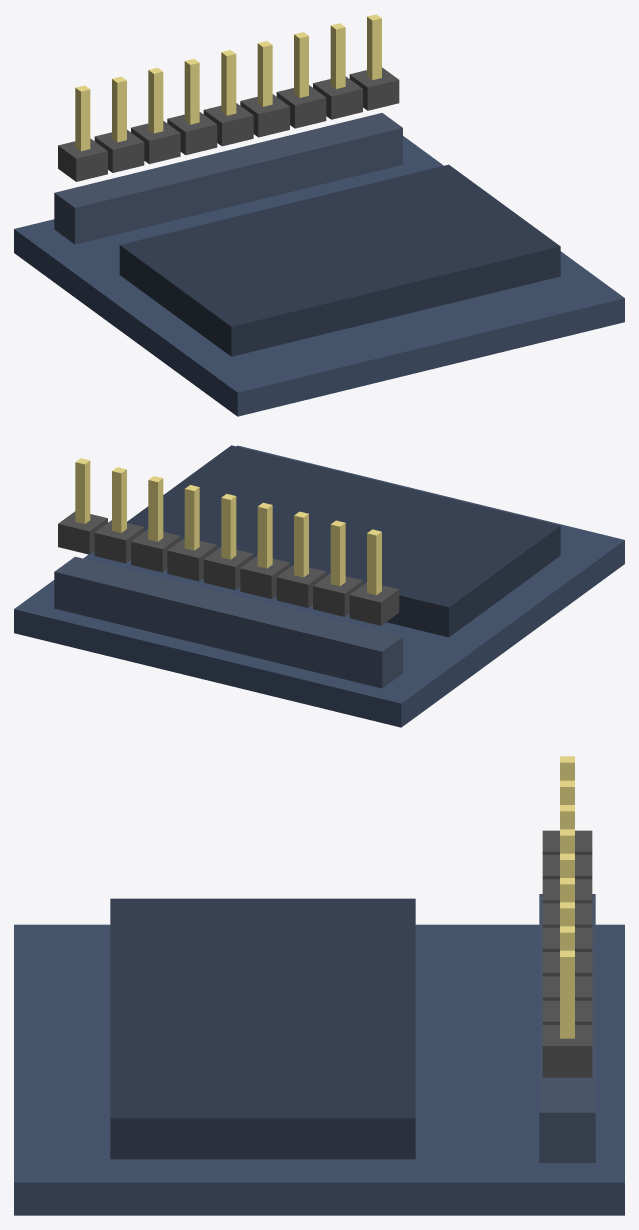
File: ili9341.glb
The picture shows the model from 3 angles, top to bottom: view 1: azimuth 30°, elevation 25°; view 2: azimuth 150°, elevation 25°; view 3: azimuth 270°, elevation 25°; orthographic projection. The views are drawn at different scales.
Visible parts, largest first — view 1: tft-ili9341-28_mesh; view 2: tft-ili9341-28_mesh; view 3: tft-ili9341-28_mesh.
Part boxes in pixels (box(x1,y1,x2,y2)): tft-ili9341-28_mesh: box(14, 14, 624, 416); tft-ili9341-28_mesh: box(14, 445, 624, 727); tft-ili9341-28_mesh: box(14, 756, 624, 1215).
Size of the model in its own units: 27 by 11.2 by 27.
